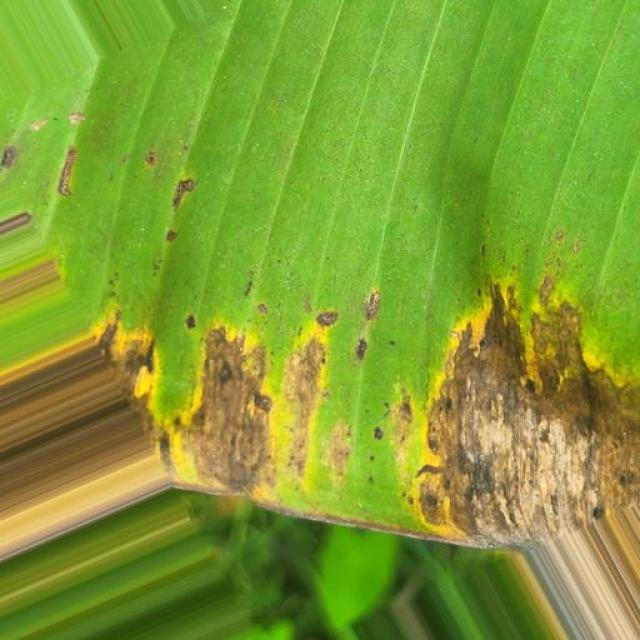Early_rust: (0, 83, 640, 577)
